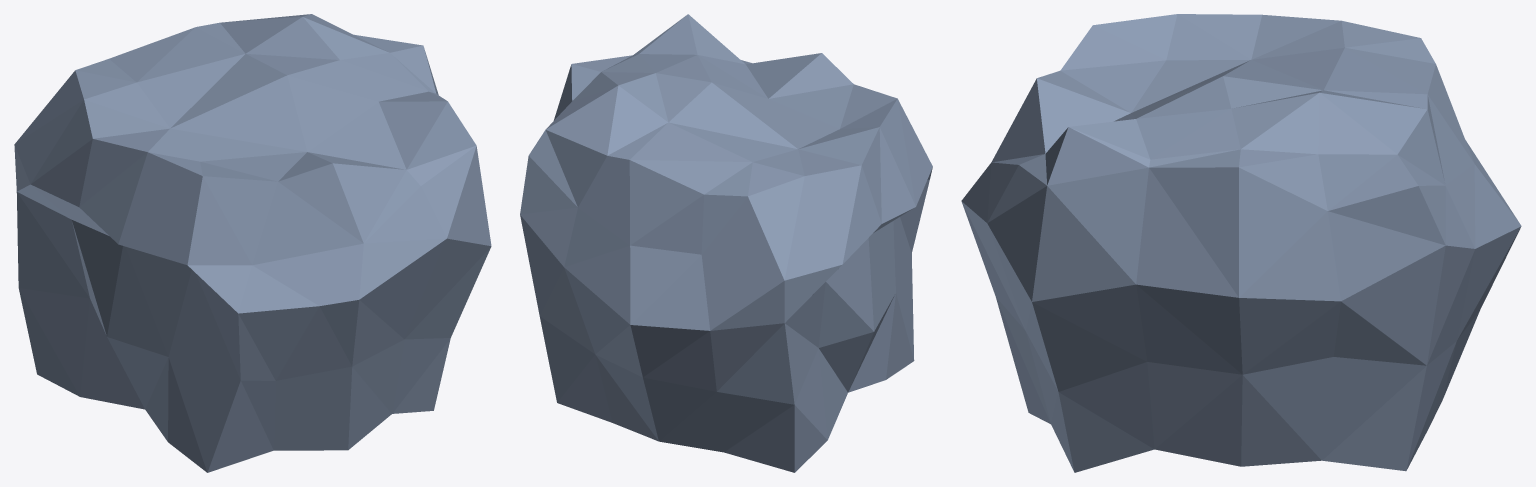
Rendered from Plainstone 5.fbx.
The picture shows the model from 3 angles, left to right: view 1: azimuth 30°, elevation 25°; view 2: azimuth 150°, elevation 25°; view 3: azimuth 270°, elevation 25°; orthographic projection. The views are drawn at different scales.
Parts seen in each view (by area): view 1: Plainstone Size 5; view 2: Plainstone Size 5; view 3: Plainstone Size 5.
Boxes of the visible parts, x1=… form: Plainstone Size 5: x1=14, y1=14, x2=491, y2=472; Plainstone Size 5: x1=520, y1=14, x2=932, y2=472; Plainstone Size 5: x1=961, y1=14, x2=1521, y2=472.
Bounding box in the file's own units: 577 × 492 × 663.
